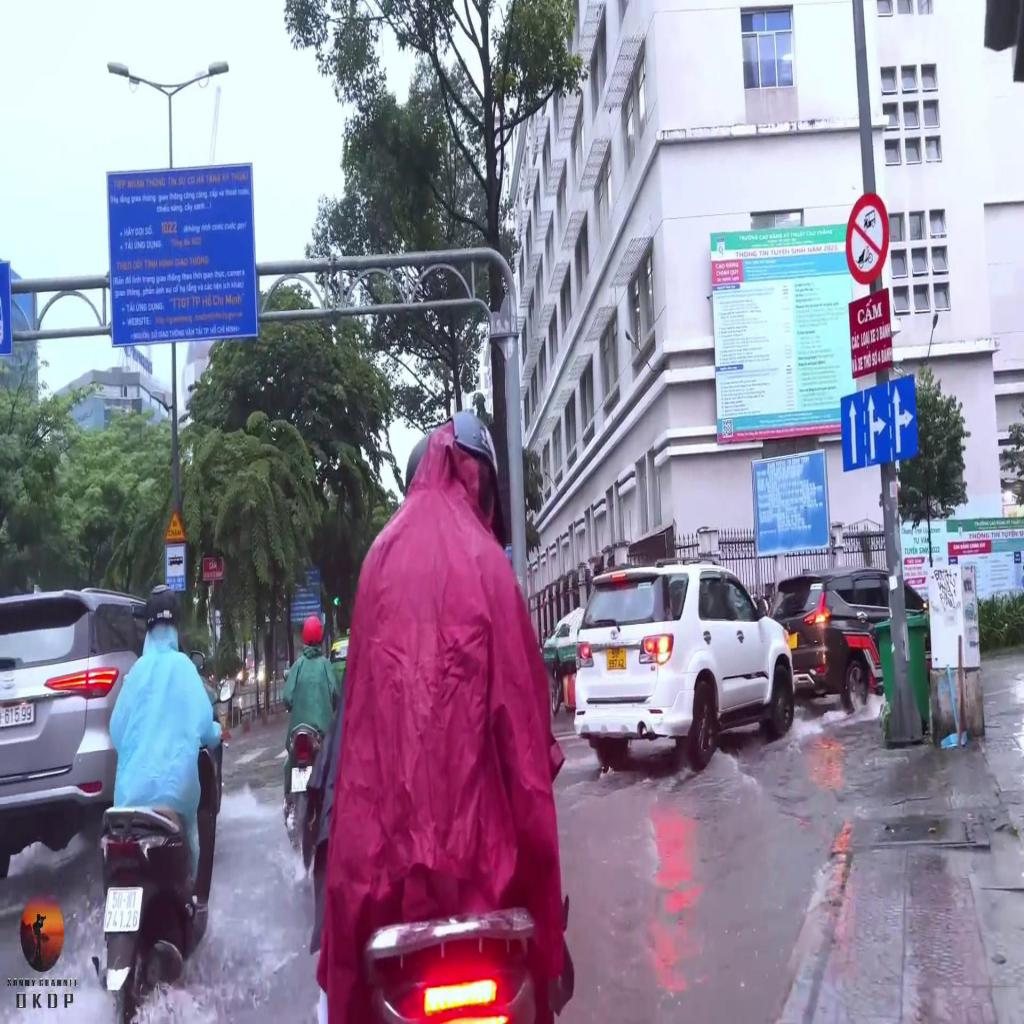cam_cac_loai_xe_3_banh: (844, 190, 890, 284)
di_cham: (162, 506, 184, 540)
huong_di_tren_moi_lan_duong_theo_vach_ke_duong: (840, 376, 918, 474)
khac: (166, 545, 184, 591)
